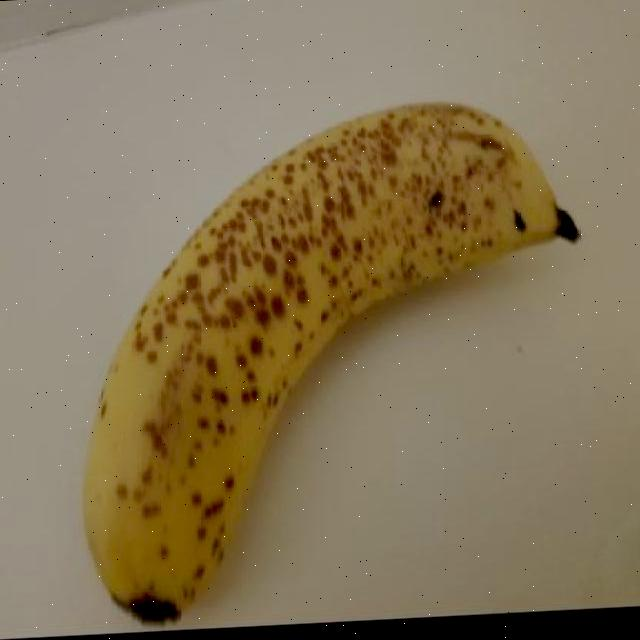banana: (83, 93, 582, 635)
